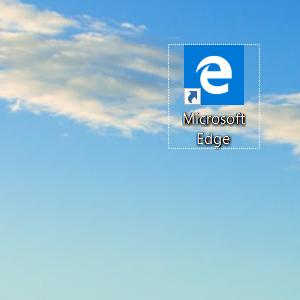edge: (184, 45, 244, 105)
